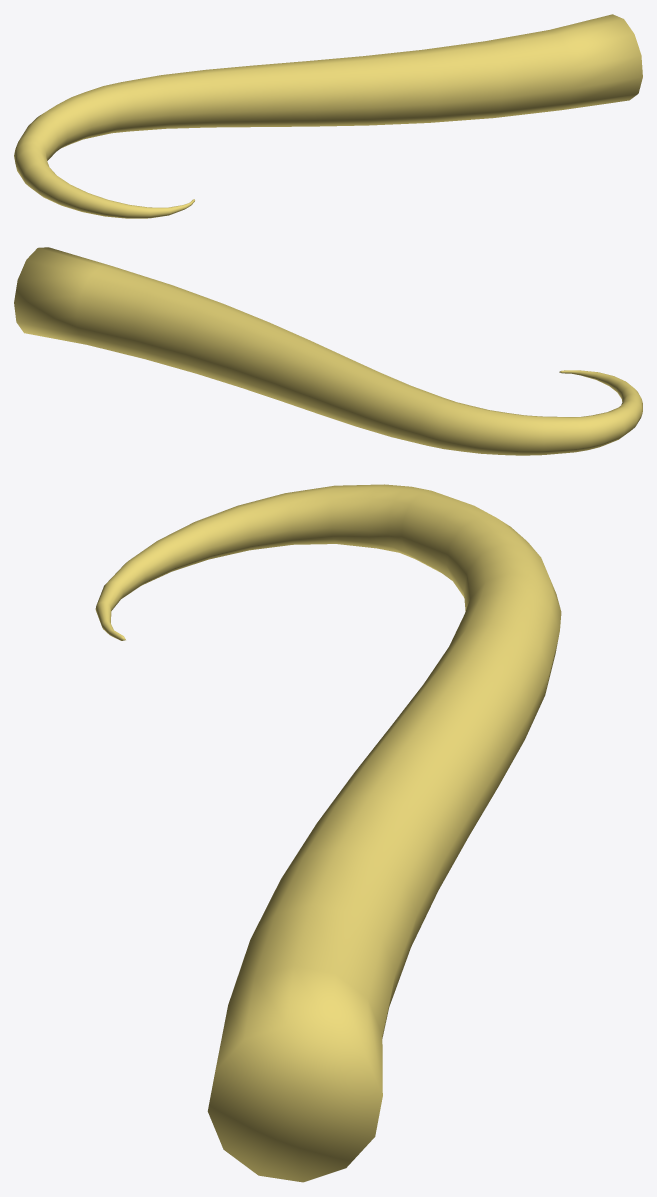
File: RaboDeRato.fbx
3 views of the same model, one above another, from view 1: azimuth 30°, elevation 25°; view 2: azimuth 150°, elevation 25°; view 3: azimuth 270°, elevation 25° (orthographic). The views are drawn at different scales.
Parts seen in each view (by area): view 1: Rabo de Rato; view 2: Rabo de Rato; view 3: Rabo de Rato.
Boxes of the visible parts, x1=… form: Rabo de Rato: x1=14, y1=14, x2=642, y2=218; Rabo de Rato: x1=14, y1=247, x2=642, y2=455; Rabo de Rato: x1=95, y1=484, x2=561, y2=1182.
Size of the model in its own units: 216 by 28.69 by 74.08.
